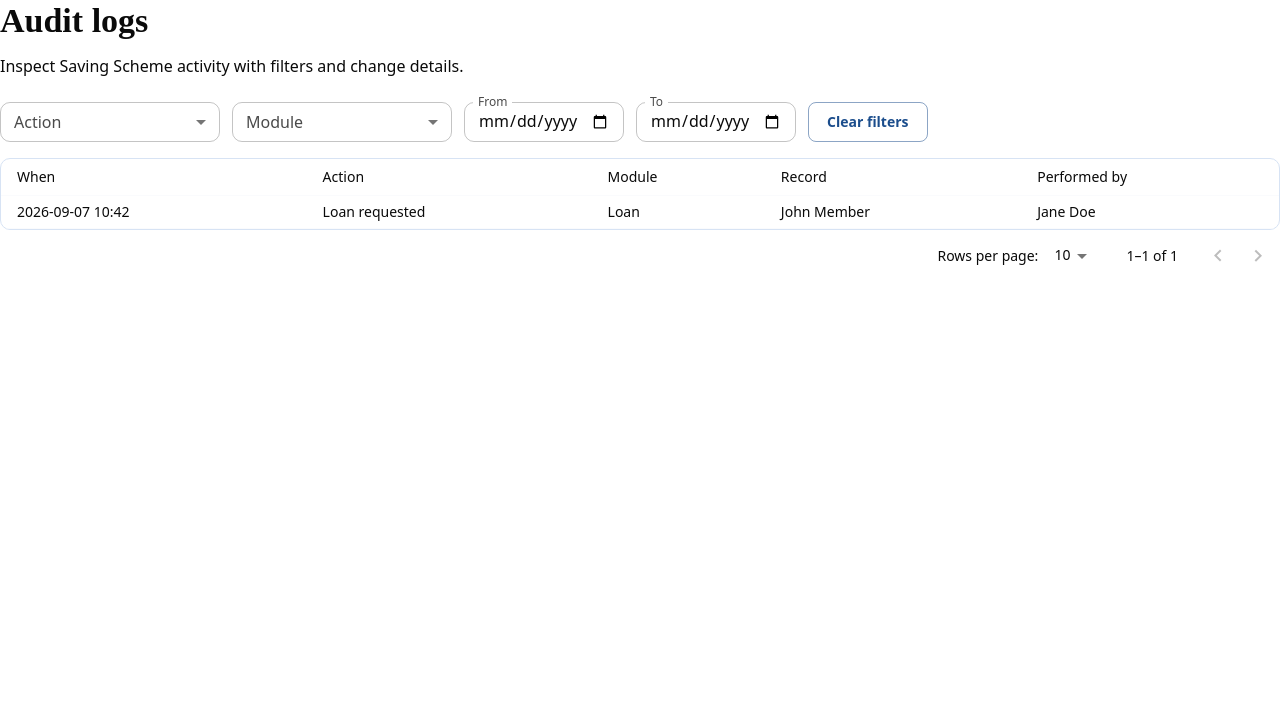
Test case: AuditLogsPage presentation › renders structured change rows in the drawer without a raw JSON code block
Click the text "Loan requested".
click(449, 212)  # box x1=307 y1=195 x2=592 y2=228
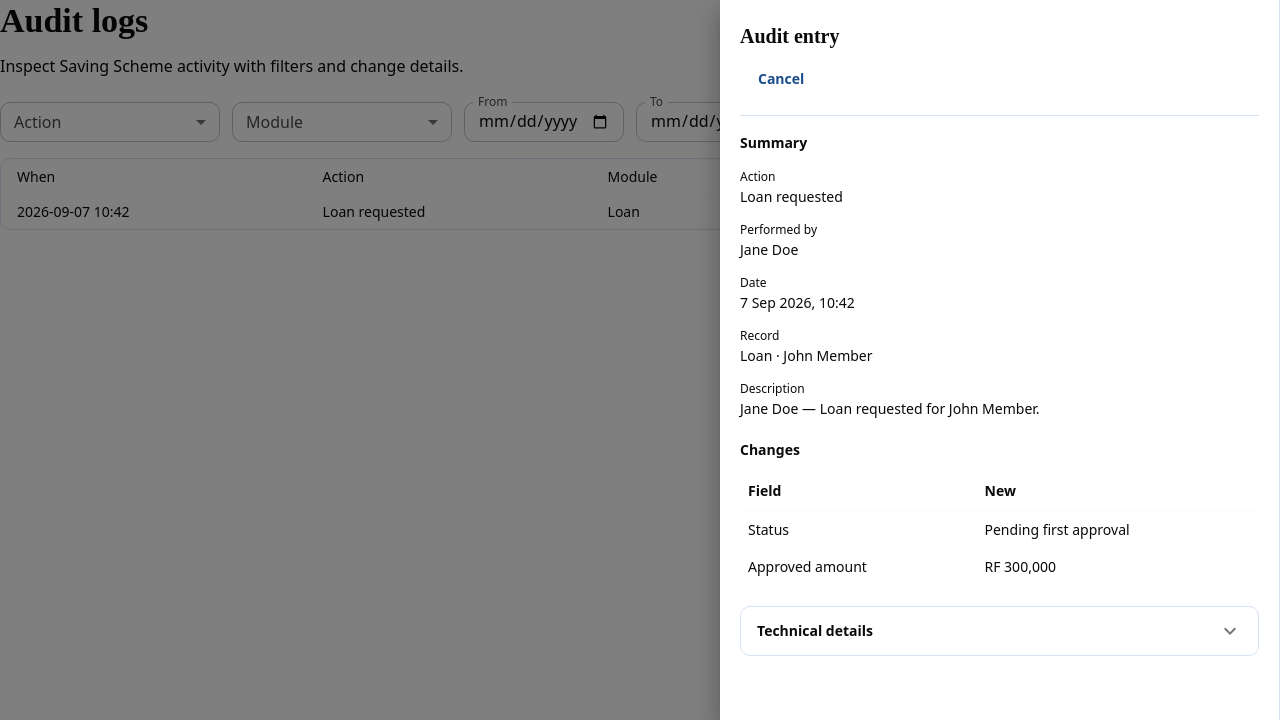
Now the heading "Summary" is shown, box x1=740 y1=133 x2=807 y2=152
Now the text "Jane Doe — Loan requested for John Member." is shown, box x1=740 y1=399 x2=1040 y2=418
Now the text "Approved amount" is shown, box x1=740 y1=548 x2=976 y2=585
